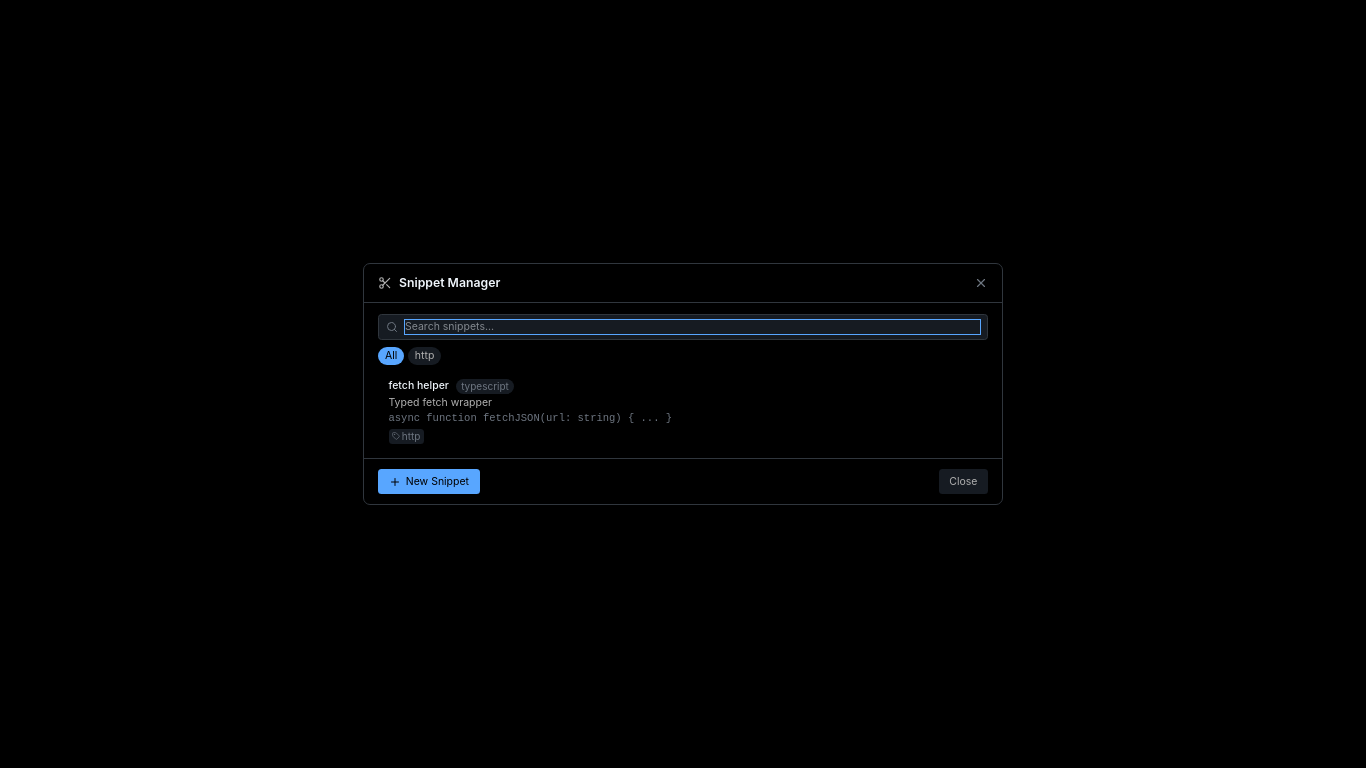
it: SnippetManagerDialog › shows 'No snippets match your search' when filter yields no results
expect the text "fetch helper" is shown: met, box [388, 379, 449, 393]
Type "zzzznonexistent" into the field with placeholder "Search snippets..." at (692, 327), box [405, 320, 980, 334]
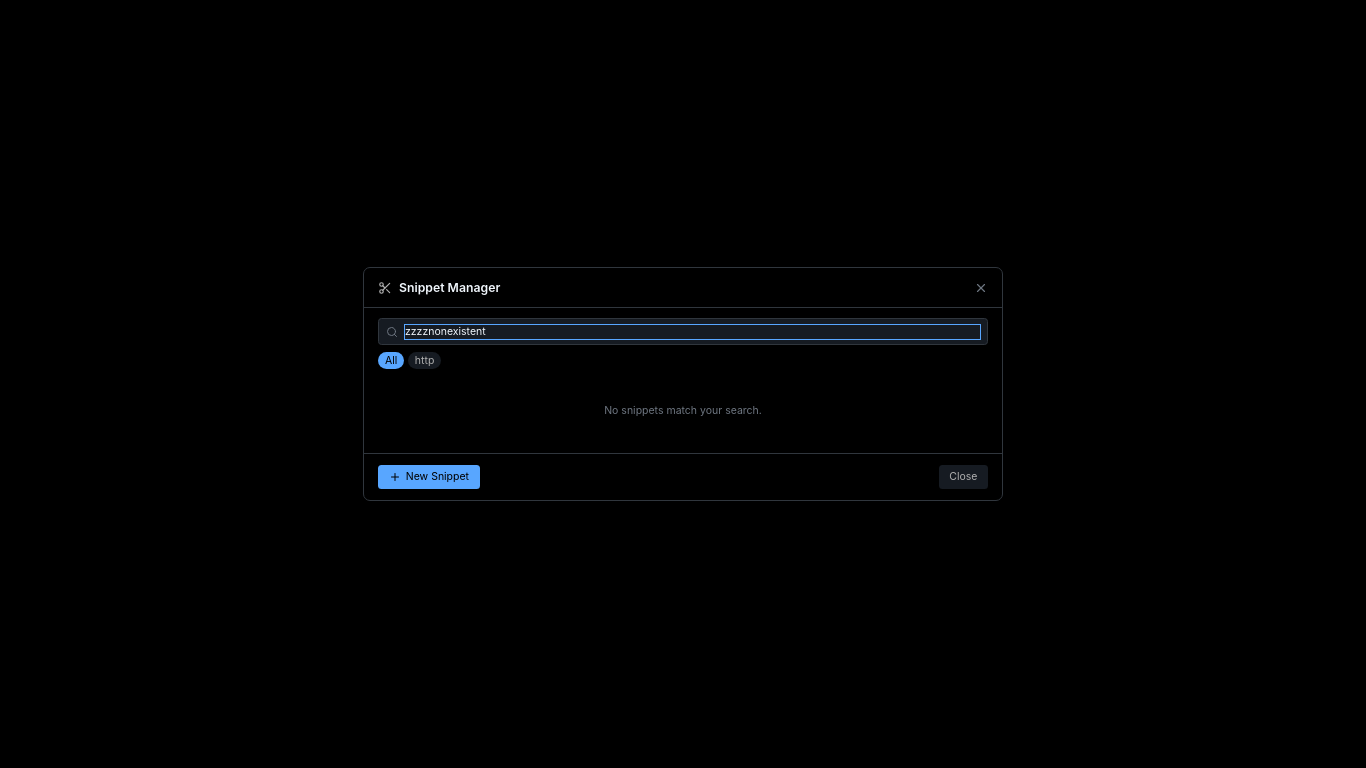
expect the text "No snippets match your search." is shown: met, box [604, 404, 762, 417]
